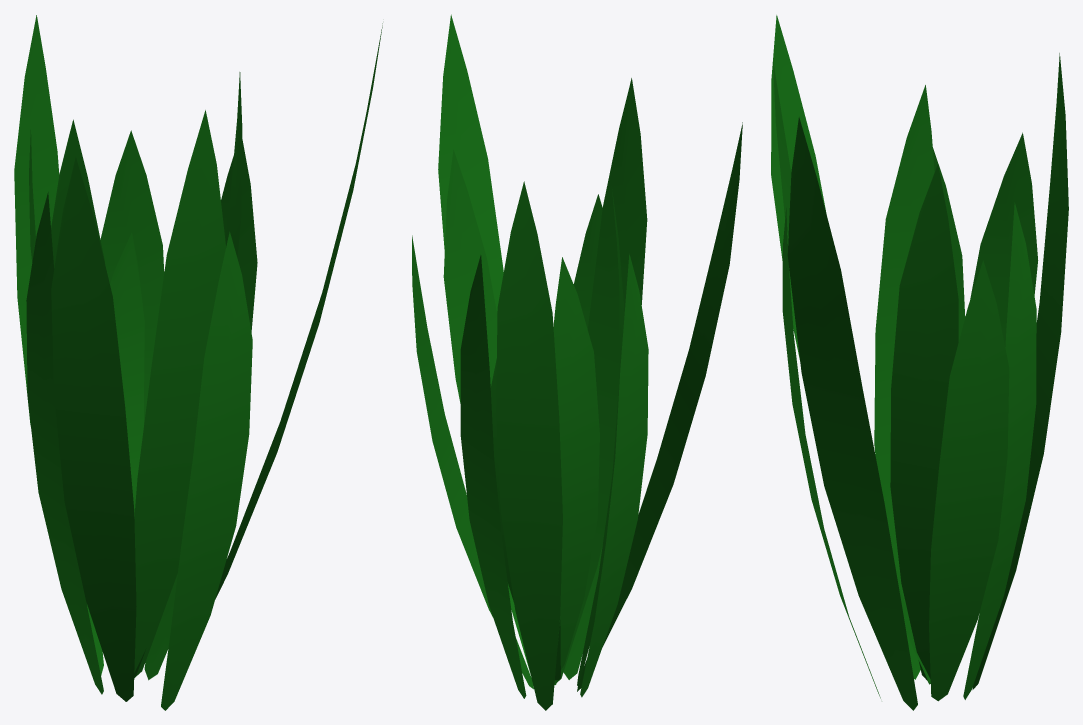
File: Grass.fbx
The picture shows the model from 3 angles, left to right: view 1: azimuth 30°, elevation 25°; view 2: azimuth 150°, elevation 25°; view 3: azimuth 270°, elevation 25°; orthographic projection. The views are drawn at different scales.
Parts seen in each view (by area): view 1: polySurface7; view 2: polySurface7; view 3: polySurface7.
Boxes of the visible parts, left/top/right/bottom form: polySurface7: left=14, top=15, right=382, bottom=710; polySurface7: left=412, top=14, right=742, bottom=710; polySurface7: left=771, top=15, right=1068, bottom=710.
Bounding box in the file's own units: 1.37 × 2.75 × 1.11.
